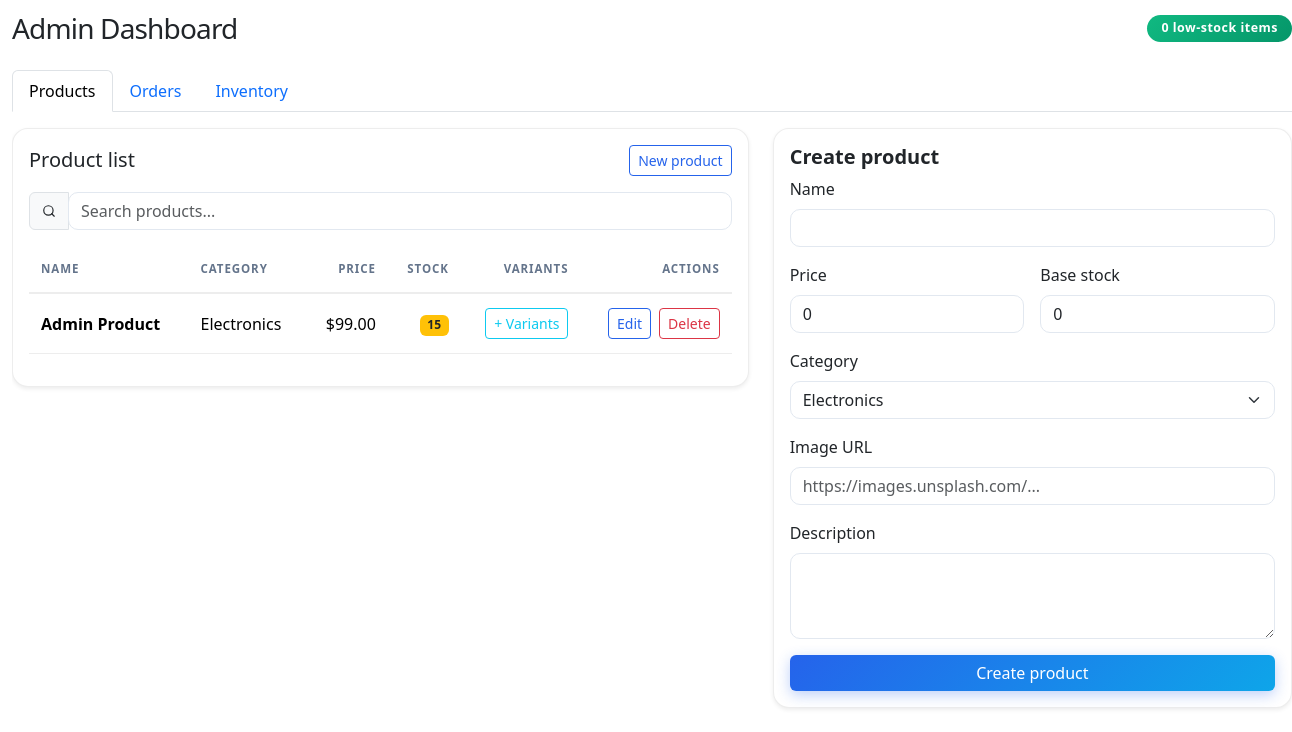
AdminDashboardPage › product search filters results
This screenshot has width=1292, height=732.
Type "nonexistent" into the field labelled "Search products..." at (400, 211), box [68,192,732,230]
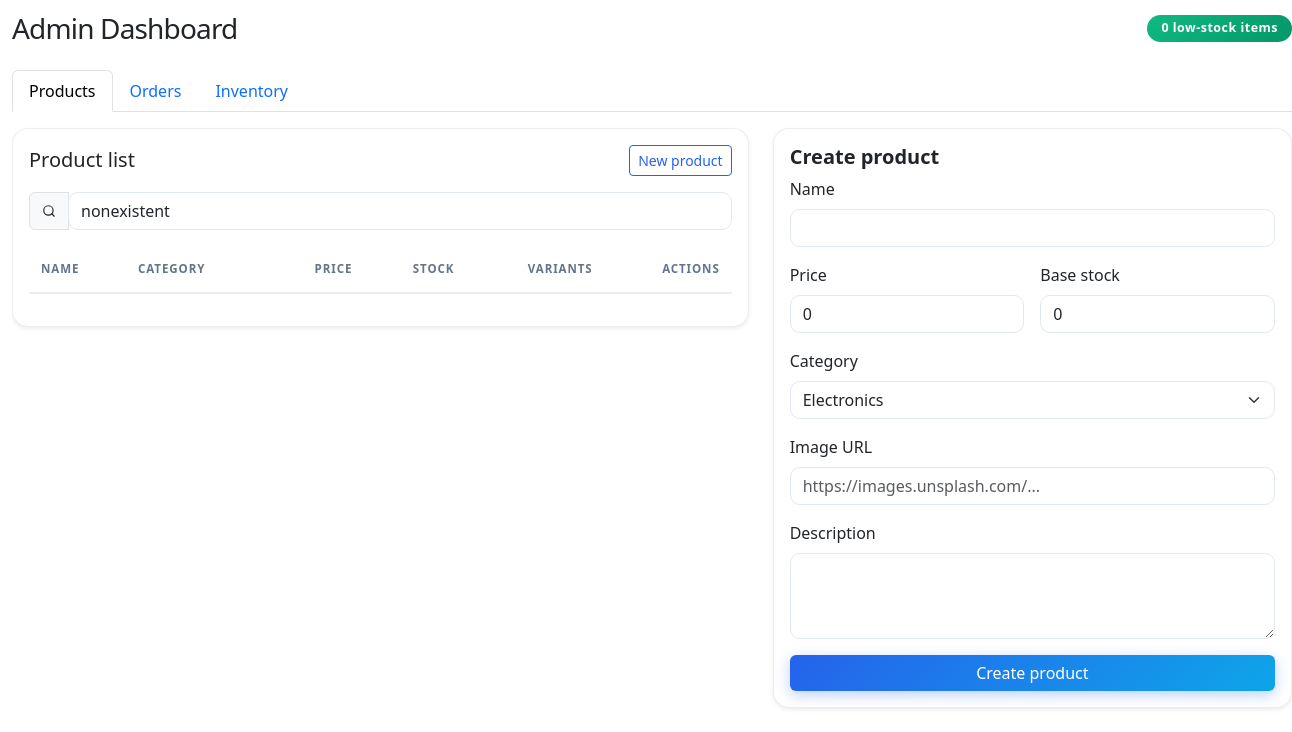
Expected: the text "Admin Product" is gone
